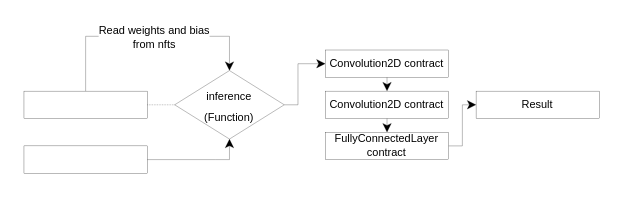
The diagram is 623 pixels wide and 197 high, and some of its shapes have lost their labels. The shapes that lost their labels are listed below. From the top down, each one's box as (x1, y1, x2, y2) in pixels, then its label:
(23, 90, 147, 118): MNIST Contract (ERC721)
(23, 145, 147, 173): Image inputs (28*28)
